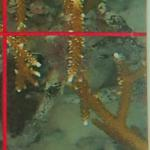alive: (6, 3, 147, 148)
